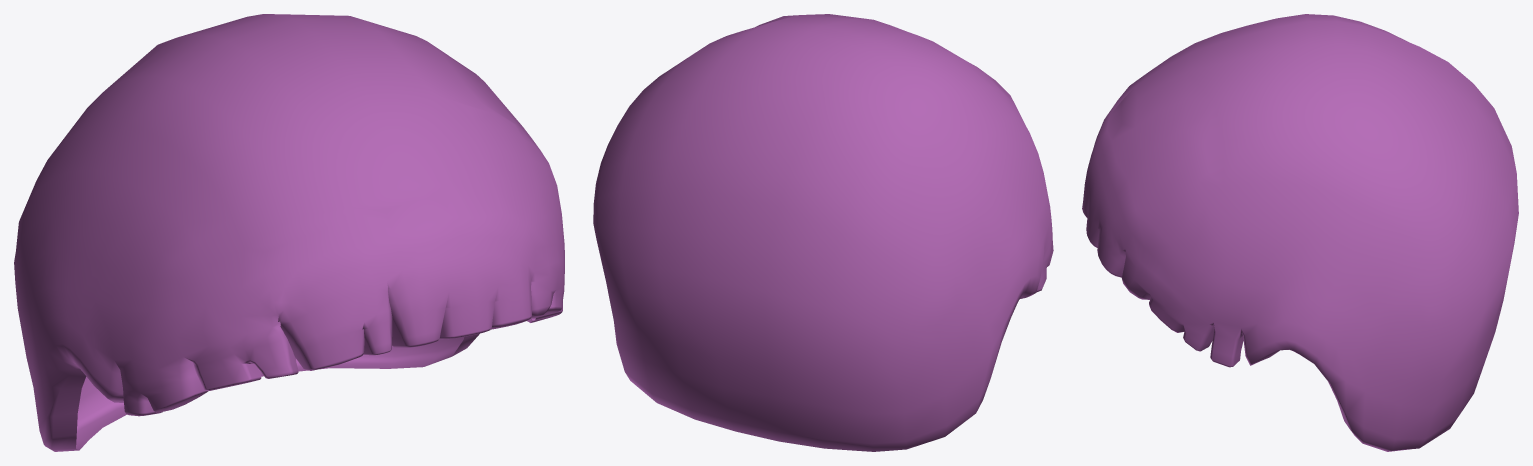
The model's file is hair10.glb.
3 views of the same model, side by side, from view 1: azimuth 30°, elevation 25°; view 2: azimuth 150°, elevation 25°; view 3: azimuth 270°, elevation 25° (orthographic). The views are drawn at different scales.
Visible parts, largest first — view 1: Hair10; view 2: Hair10; view 3: Hair10.
Part boxes in pixels (x1,y1,x2,y2): Hair10: (14,14,564,451); Hair10: (593,14,1053,451); Hair10: (1082,14,1518,451).
Size of the model in its own units: 0.00912 by 0.00752 by 0.00858.
